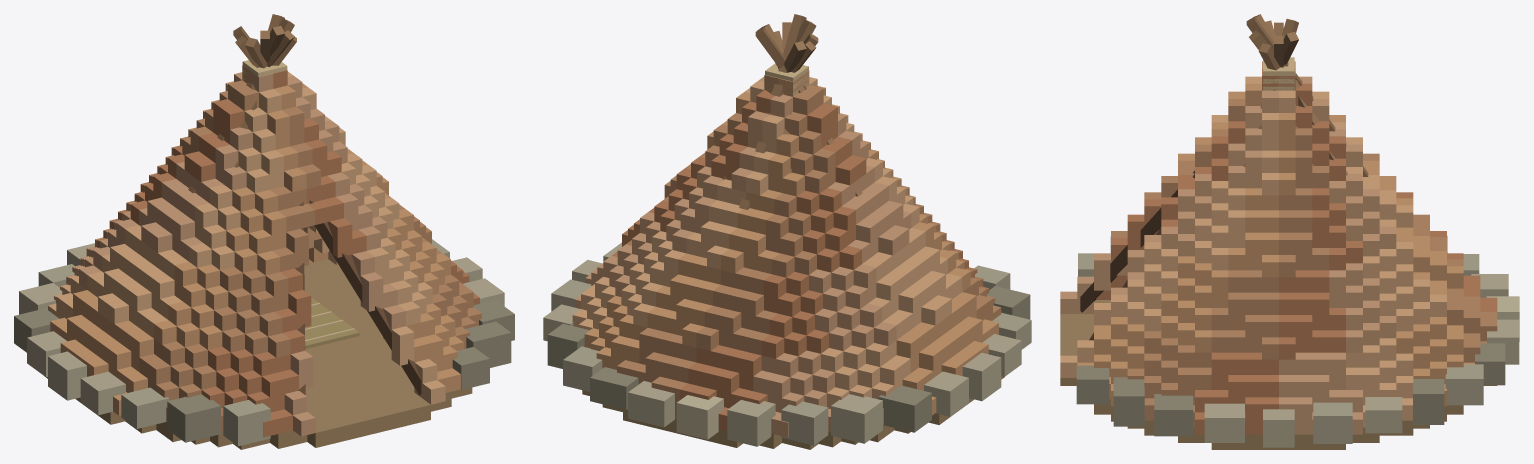
The model's file is carpa-pieles.glb.
The picture shows the model from 3 angles, left to right: view 1: azimuth 30°, elevation 25°; view 2: azimuth 150°, elevation 25°; view 3: azimuth 270°, elevation 25°; orthographic projection. The views are drawn at different scales.
Visible parts, largest first — view 1: Export · Carpa de pieles; view 2: Export · Carpa de pieles; view 3: Export · Carpa de pieles.
Boxes of the visible parts, <box> form: Export · Carpa de pieles: <box>14,14,514,449</box>; Export · Carpa de pieles: <box>543,14,1031,449</box>; Export · Carpa de pieles: <box>1060,14,1519,449</box>.
Size of the model in its own units: 5.2 by 4.01 by 4.92.
